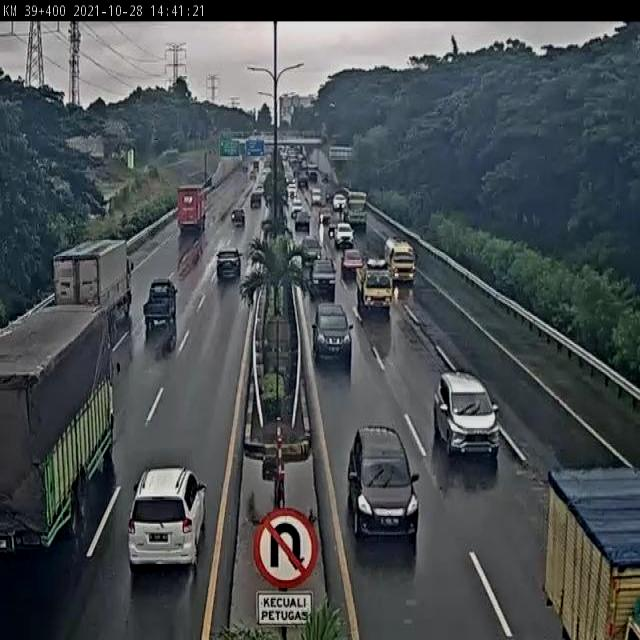Car: (347, 426, 420, 541), (126, 465, 206, 568), (429, 367, 502, 468), (312, 302, 354, 368), (143, 277, 178, 343), (308, 258, 338, 299), (216, 248, 242, 279), (342, 248, 364, 278), (332, 222, 354, 248), (300, 236, 321, 263), (294, 210, 311, 233), (230, 208, 246, 227)
Truck: (0, 294, 115, 560), (546, 466, 640, 640), (52, 238, 131, 330), (177, 183, 206, 243)
